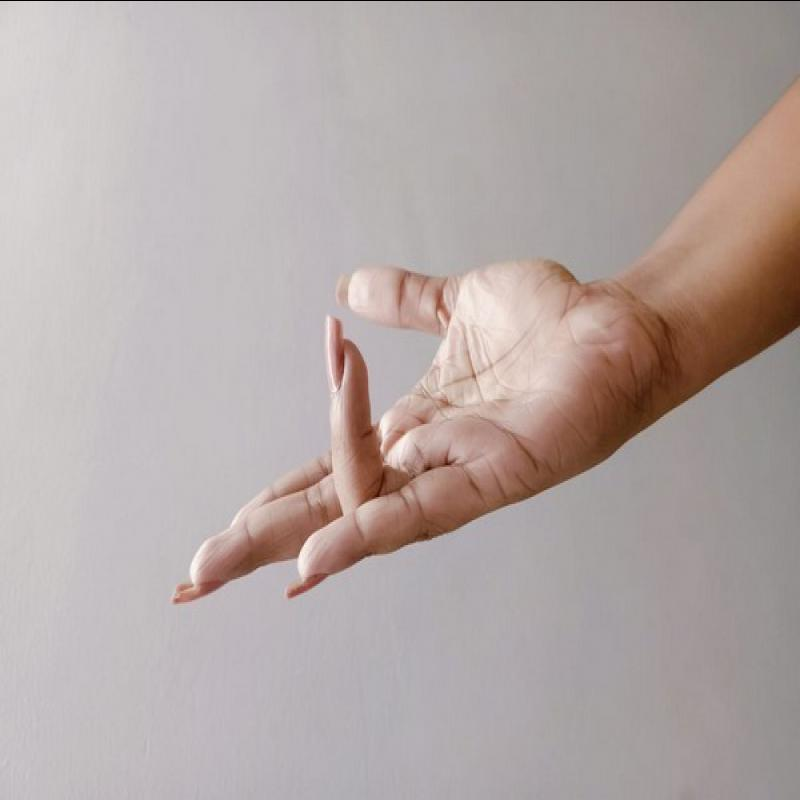Pathaaka: (133, 240, 655, 614)
